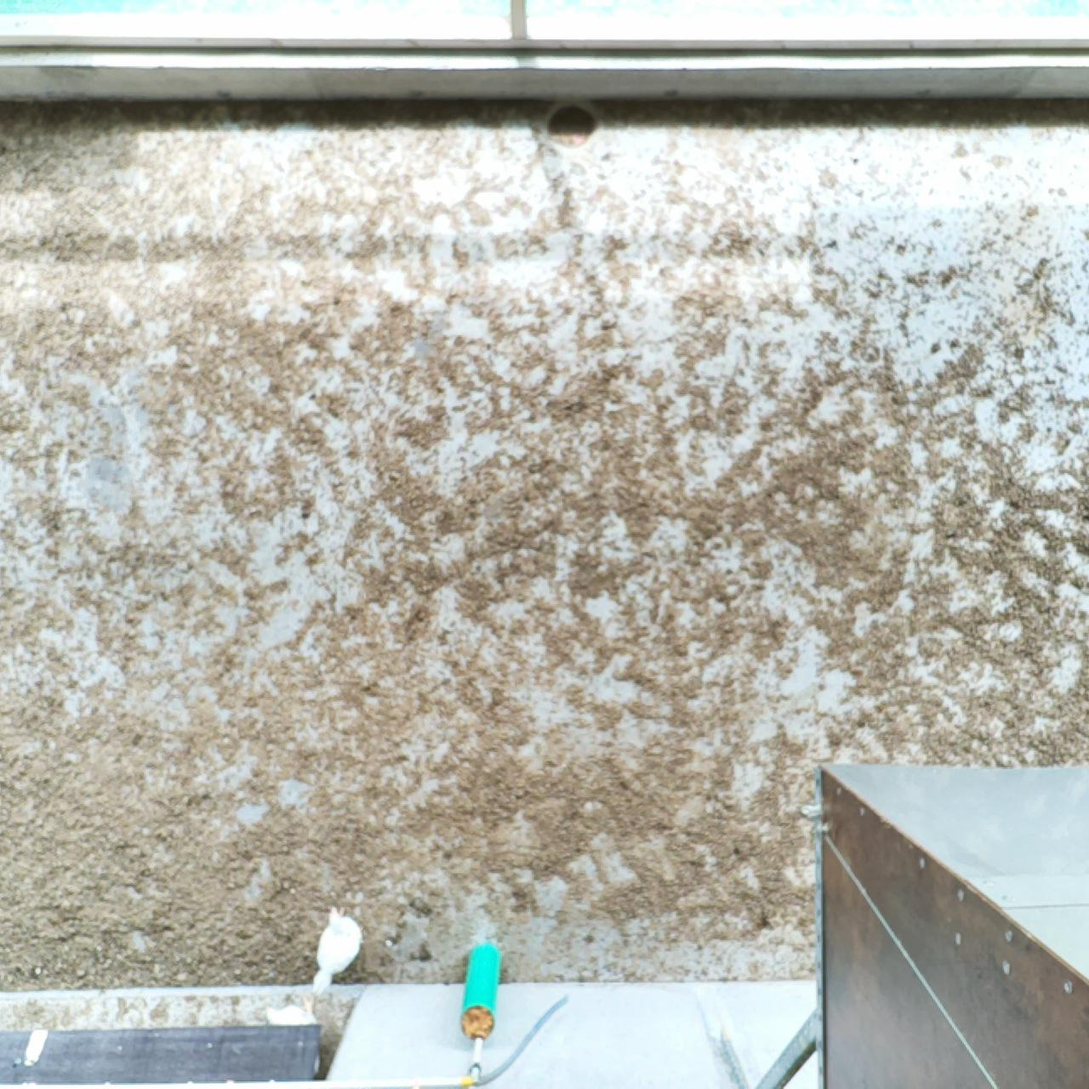chicken: (309, 902, 369, 997)
